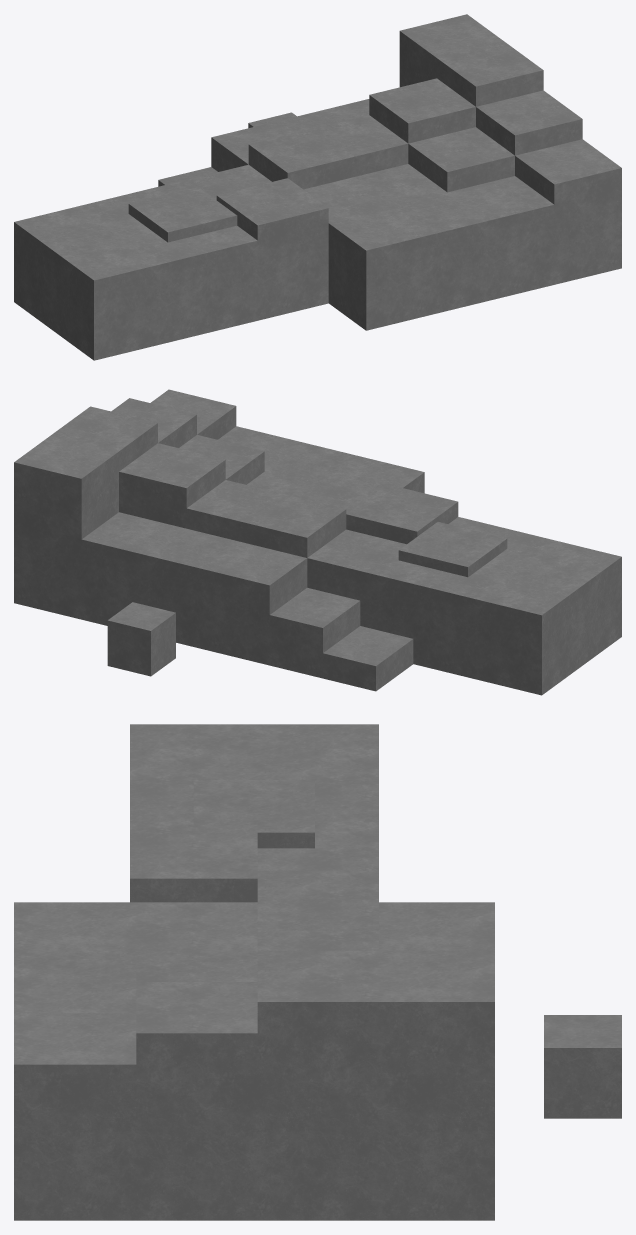
File: table_metal_12-opt-v9.glb
3 views of the same model, one above another, from view 1: azimuth 30°, elevation 25°; view 2: azimuth 150°, elevation 25°; view 3: azimuth 270°, elevation 25° (orthographic). The views are drawn at different scales.
Parts seen in each view (by area): view 1: Mesh_15.015; view 2: Mesh_15.015; view 3: Mesh_15.015.
Boxes of the visible parts, x1,y1,x2,y2 form: Mesh_15.015: (14, 14, 621, 360); Mesh_15.015: (14, 389, 621, 695); Mesh_15.015: (14, 724, 621, 1220).
Size of the model in its own units: 5.08 by 1.39 by 3.51.
Materials: 1 (1 with a texture image).
